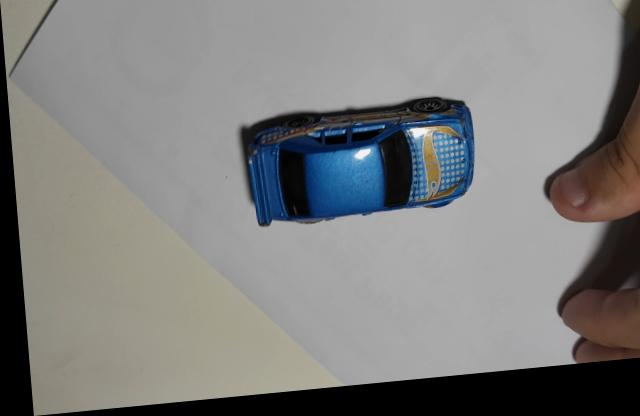04_MERZEDES: (244, 104, 471, 231)
